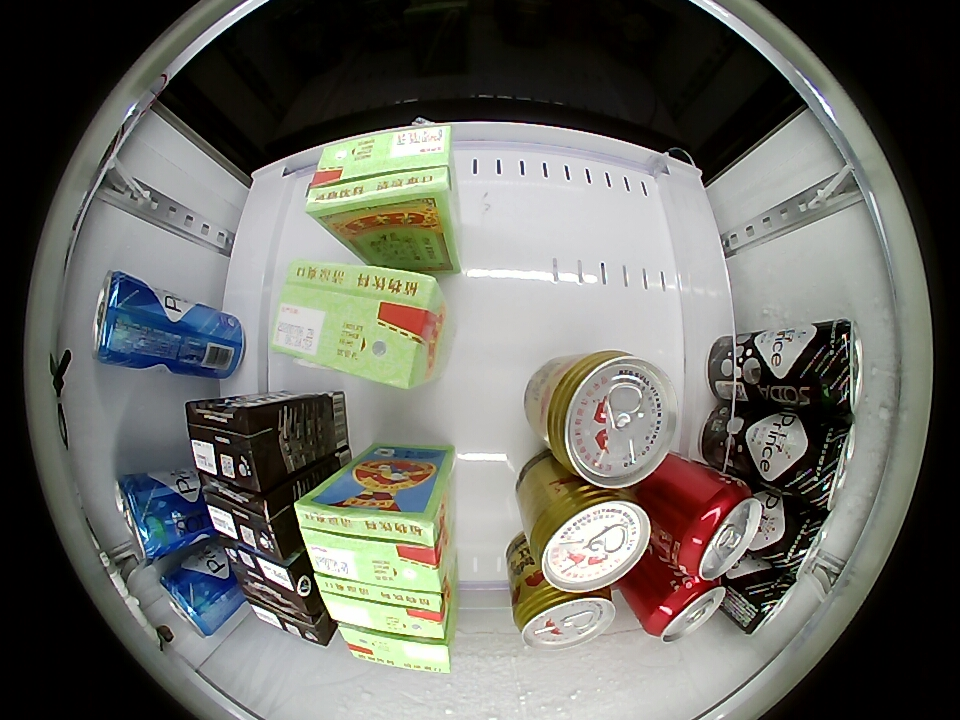hongniu2: (540, 349, 678, 489), (530, 485, 651, 593), (514, 583, 617, 650)
kele: (671, 480, 763, 581), (642, 575, 726, 642)
qingdaowangzi-1: (795, 417, 856, 509), (805, 319, 864, 414), (770, 503, 834, 577), (732, 568, 800, 635)
qingdaowangzi-2: (114, 473, 191, 561), (159, 561, 231, 637), (92, 271, 151, 363)
wanglaoji: (271, 259, 444, 388), (295, 483, 450, 591), (306, 123, 452, 236), (314, 573, 453, 638), (339, 625, 453, 674)
weitanai2: (185, 398, 285, 491), (201, 478, 297, 560), (226, 544, 318, 612), (243, 591, 335, 649)
